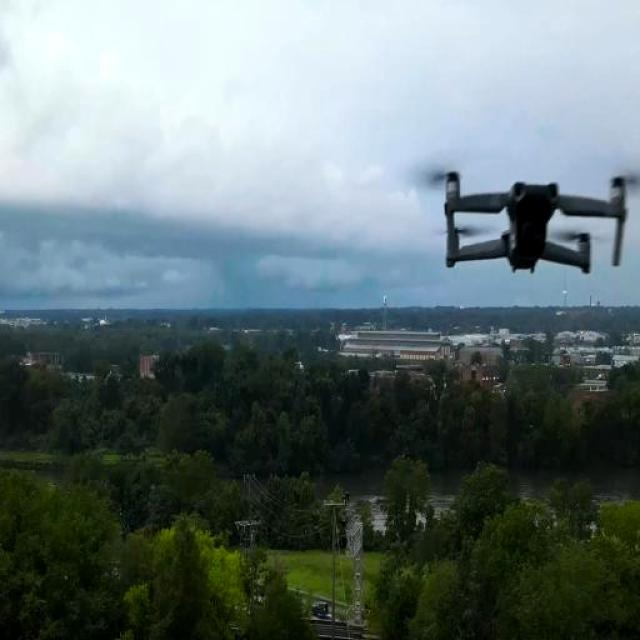bird: (388, 146, 640, 292)
